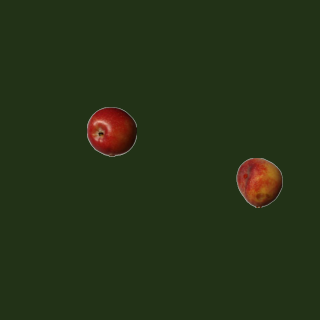Apple Braeburn: (86, 106, 136, 156)
Peach: (234, 157, 284, 207)
